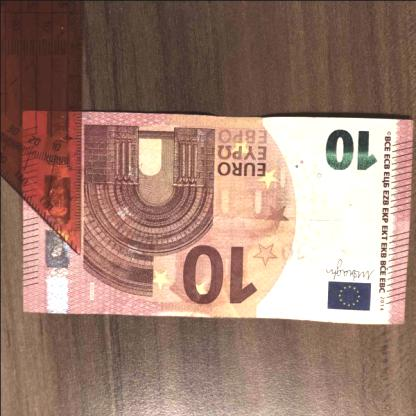euro_banknote: (19, 114, 411, 321)
